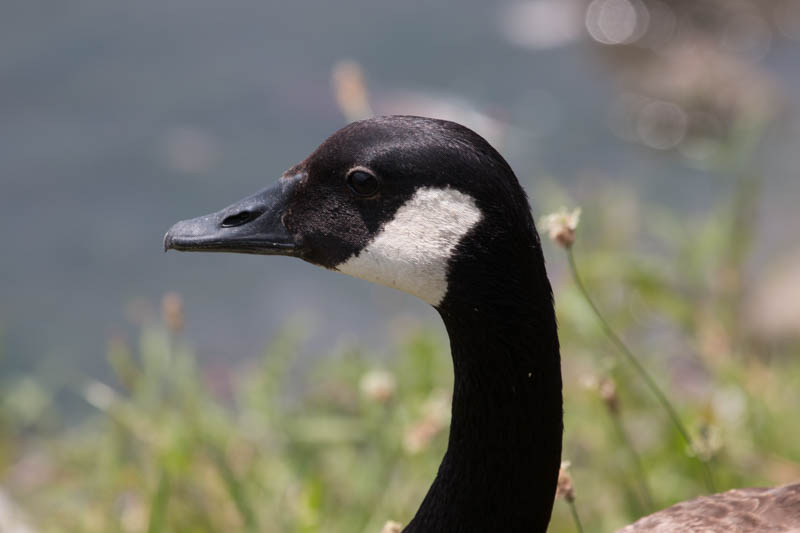goose-head: (162, 114, 552, 309)
